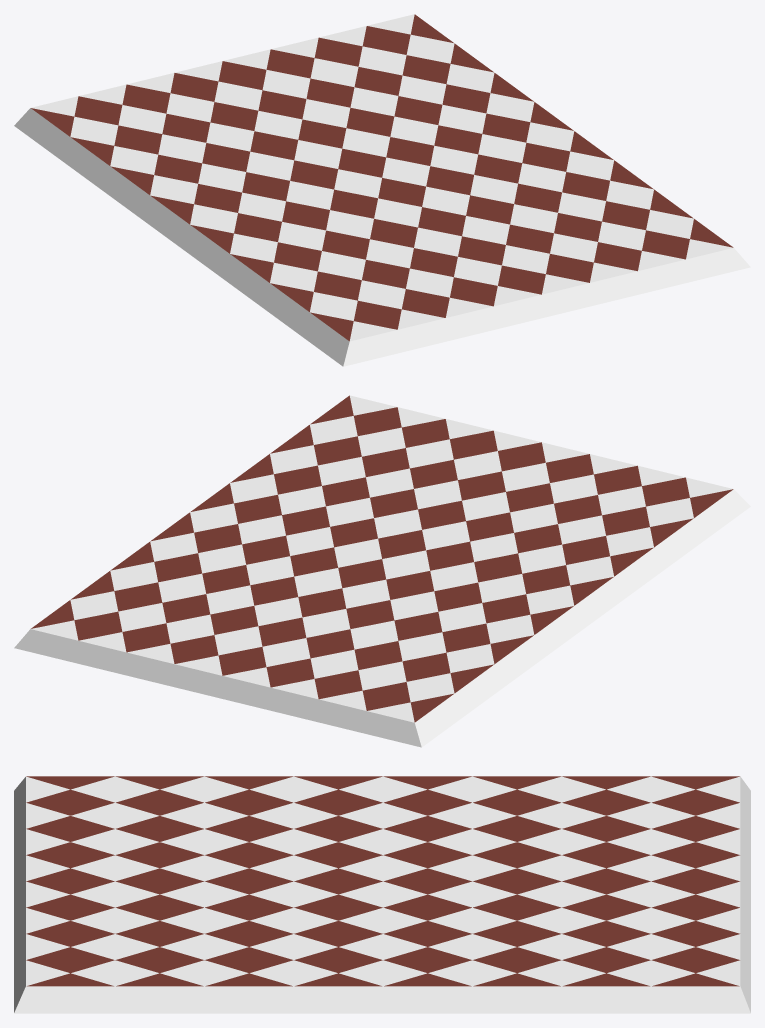
Rendered from cardhearts01.gltf.
3 renders of one model, top to bottom at view 1: azimuth 30°, elevation 25°; view 2: azimuth 150°, elevation 25°; view 3: azimuth 270°, elevation 25°, orthographic. The views are drawn at different scales.
Parts seen in each view (by area): view 1: Cube; view 2: Cube; view 3: Cube.
Boxes of the visible parts, x1,y1,x2,y2 form: Cube: (14, 14, 750, 366); Cube: (14, 395, 750, 747); Cube: (14, 776, 750, 1013).
Bounding box in the file's own units: 0.0635 × 0.00295 × 0.0888.
1 material, 1 textured.
